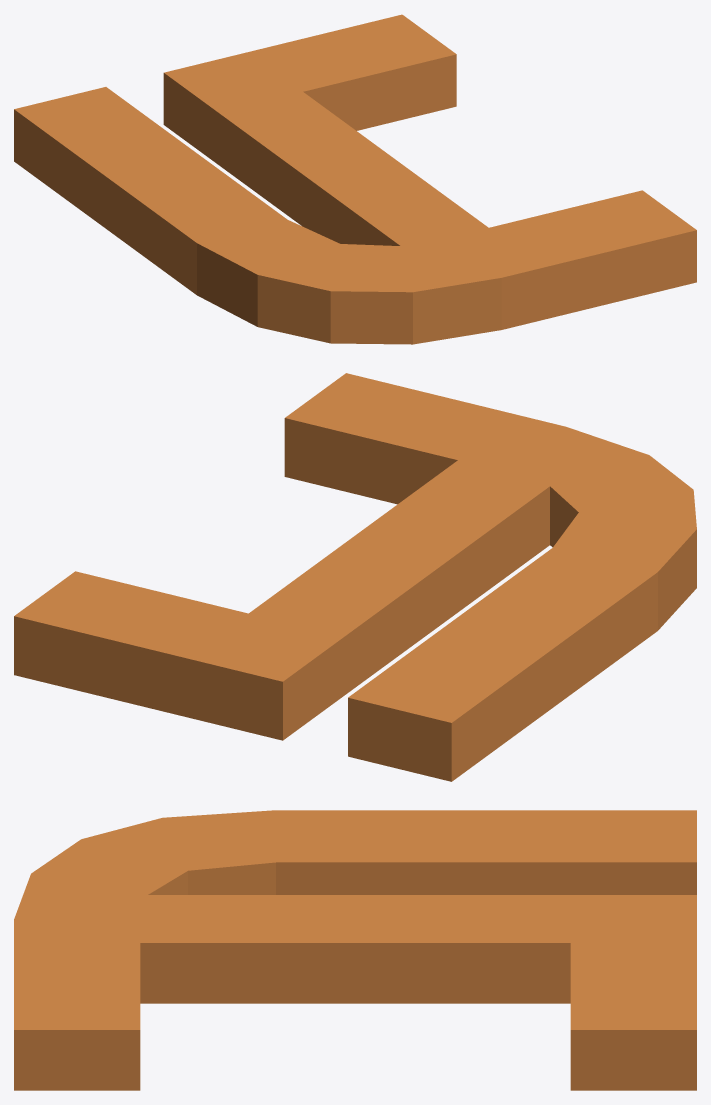
Rendered from Alphabet_3D_01_Y.FBX.
The picture shows the model from 3 angles, top to bottom: view 1: azimuth 30°, elevation 25°; view 2: azimuth 150°, elevation 25°; view 3: azimuth 270°, elevation 25°; orthographic projection. The views are drawn at different scales.
Visible parts, largest first — view 1: Alphabet_3D_01_Y; view 2: Alphabet_3D_01_Y; view 3: Alphabet_3D_01_Y.
Part boxes in pixels (left/top/right/bottom): Alphabet_3D_01_Y: left=14, top=14, right=696, bottom=344; Alphabet_3D_01_Y: left=14, top=373, right=696, bottom=781; Alphabet_3D_01_Y: left=14, top=810, right=696, bottom=1090.
Size of the model in its own units: 58.31 by 7.5 by 76.64.
